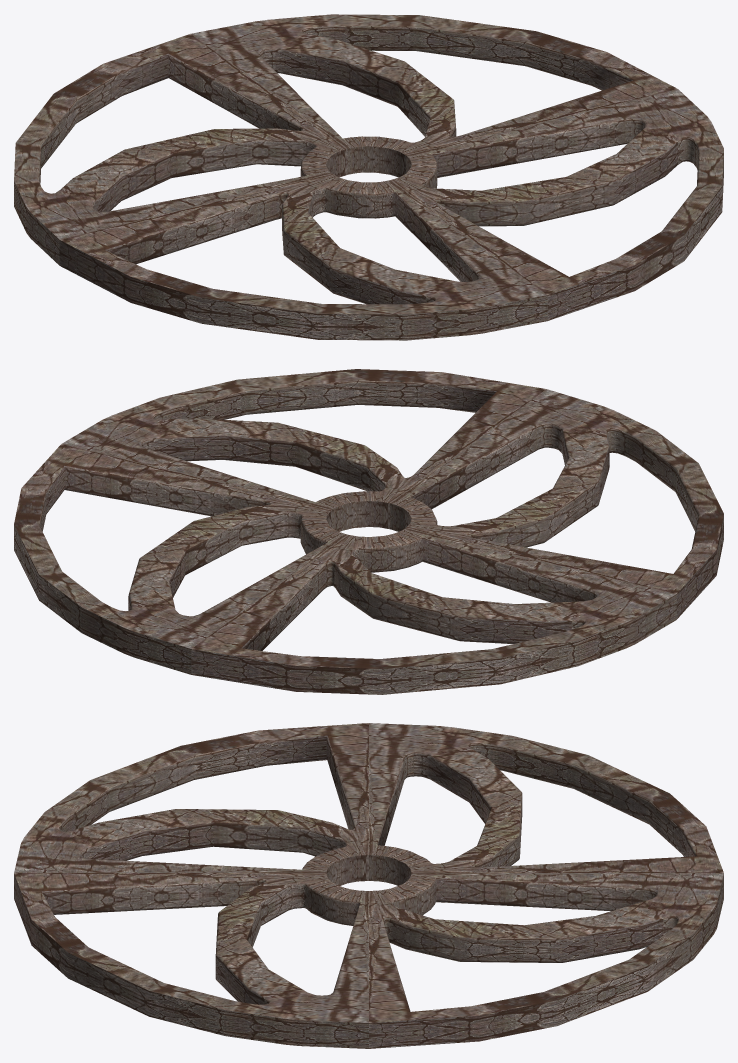
The model's file is Ring_disk_big.FBX.
The picture shows the model from 3 angles, top to bottom: view 1: azimuth 30°, elevation 25°; view 2: azimuth 150°, elevation 25°; view 3: azimuth 270°, elevation 25°; orthographic projection.
Visible parts, largest first — view 1: Ring_disk_big; view 2: Ring_disk_big; view 3: Ring_disk_big.
Boxes of the visible parts, x1,y1,x2,y2 form: Ring_disk_big: (14,14,723,340); Ring_disk_big: (14,369,723,694); Ring_disk_big: (14,723,723,1048).
Size of the model in its own units: 9.09 by 9.09 by 0.3662.
